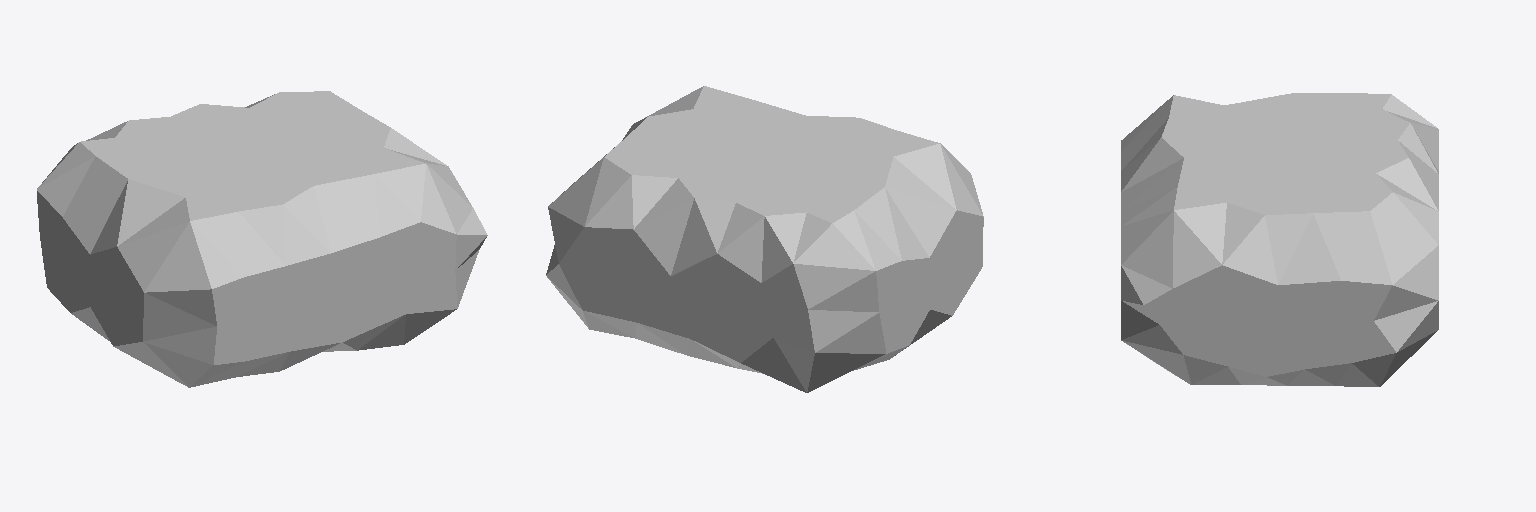
File: lumpy_remesh.obj
3 renders of one model, left to right at view 1: azimuth 30°, elevation 25°; view 2: azimuth 150°, elevation 25°; view 3: azimuth 270°, elevation 25°, orthographic.
Visible parts, largest first — view 1: mmGroup0; view 2: mmGroup0; view 3: mmGroup0.
Boxes of the visible parts, <box> form: mmGroup0: <box>37,91,487,387</box>; mmGroup0: <box>546,86,983,392</box>; mmGroup0: <box>1121,93,1438,386</box>.
Size of the model in its own units: 0.5 by 0.3 by 0.42.